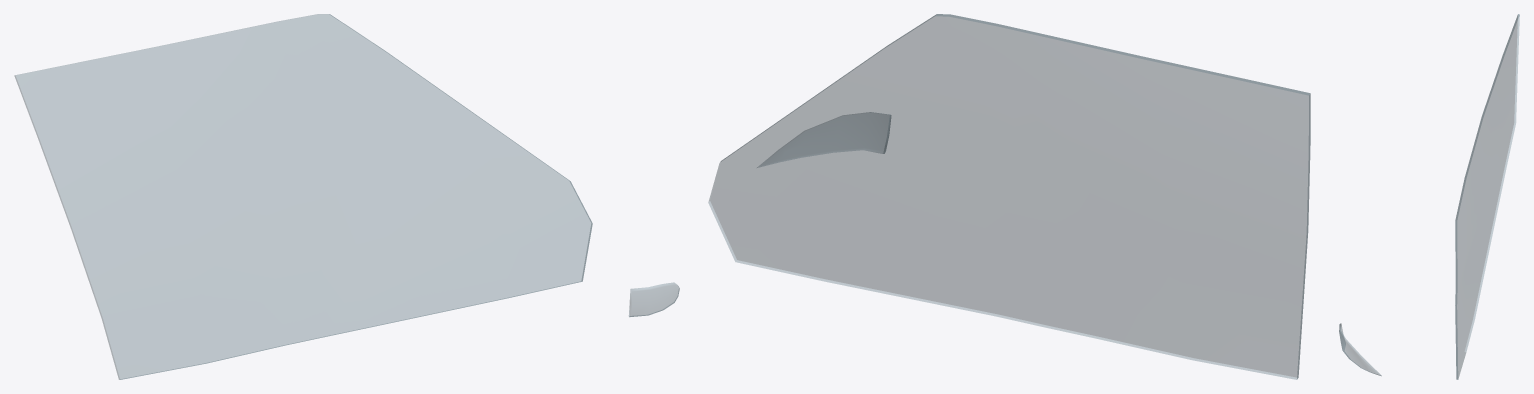
3 views of the same model, side by side, from view 1: azimuth 30°, elevation 25°; view 2: azimuth 150°, elevation 25°; view 3: azimuth 270°, elevation 25° (orthographic). The views are drawn at different scales.
Parts seen in each view (by area): view 1: SM_NissanPatrol_Door_FR_Glass_Ext1; view 2: SM_NissanPatrol_Door_FR_Glass_Ext1; view 3: SM_NissanPatrol_Door_FR_Glass_Ext1.
Boxes of the visible parts, bbox=[...] form: SM_NissanPatrol_Door_FR_Glass_Ext1: bbox=[14, 14, 679, 379]; SM_NissanPatrol_Door_FR_Glass_Ext1: bbox=[708, 14, 1310, 379]; SM_NissanPatrol_Door_FR_Glass_Ext1: bbox=[1339, 14, 1519, 379].
Bounding box in the file's own units: 0.9785 × 0.4995 × 0.4133.
